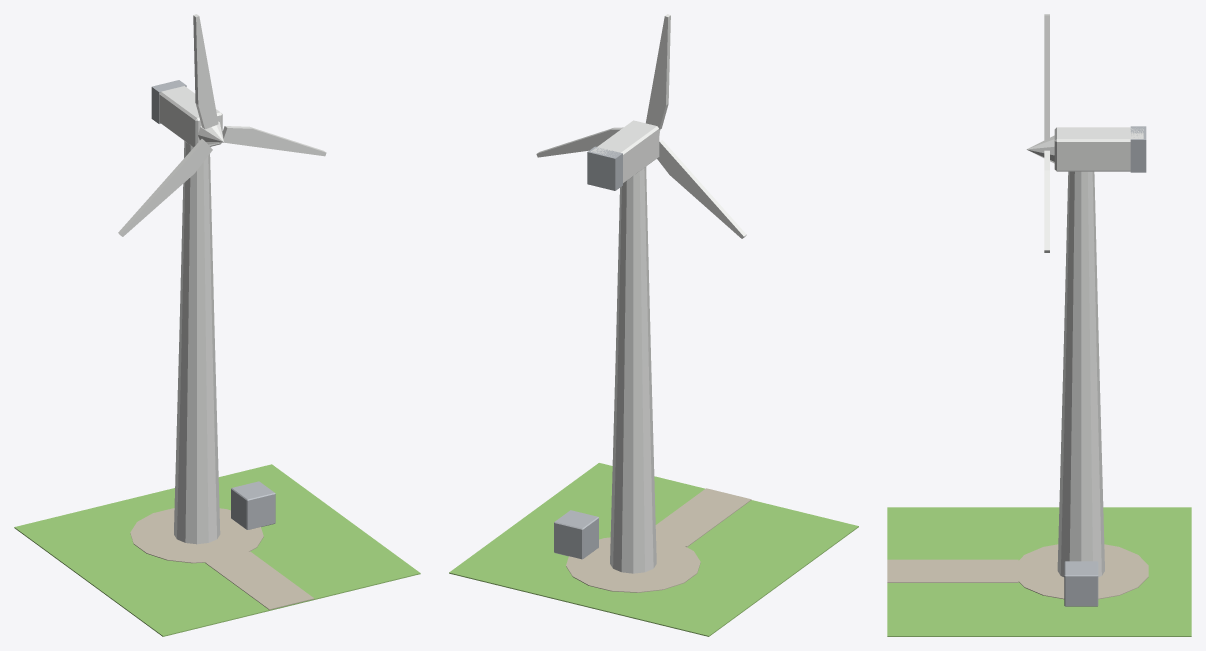
The model's file is windturbine.glb.
3 renders of one model, left to right at view 1: azimuth 30°, elevation 25°; view 2: azimuth 150°, elevation 25°; view 3: azimuth 270°, elevation 25°, orthographic. The views are drawn at different scales.
Visible parts, largest first — view 1: windturbine; view 2: windturbine; view 3: windturbine.
Boxes of the visible parts, left/top/right/bottom form: windturbine: left=14, top=14, right=420, bottom=636; windturbine: left=449, top=14, right=858, bottom=636; windturbine: left=887, top=14, right=1191, bottom=636.
Size of the model in its own units: 16 by 31.88 by 16.
